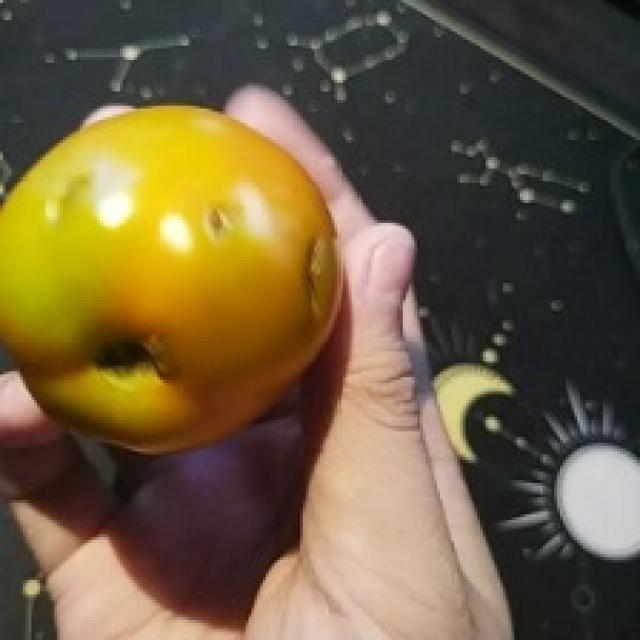Rotten Tomato: (0, 90, 350, 476)
